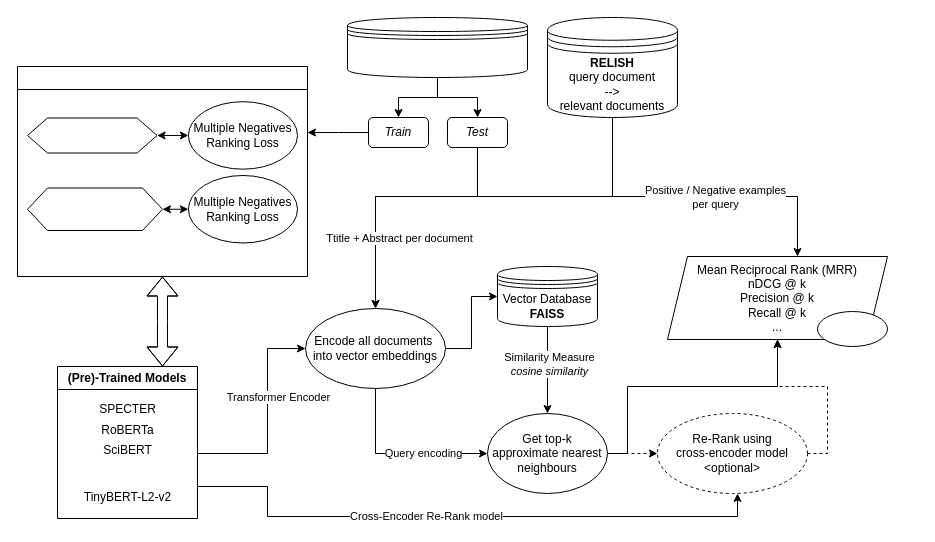
This 935x542 diagram has some shape labels left out. The box of each missing label's shape, as (x1, y1, x2, y2) in pixels:
Cross-Encoder Re-Ranking Model: (26, 187, 162, 230)
Embedding Model: (26, 117, 157, 153)
Evaluation: (816, 310, 888, 346)
Fine tuning: (16, 66, 308, 276)
SciDocs Cite citation query-pos.-neg. triplets: (346, 16, 528, 78)
